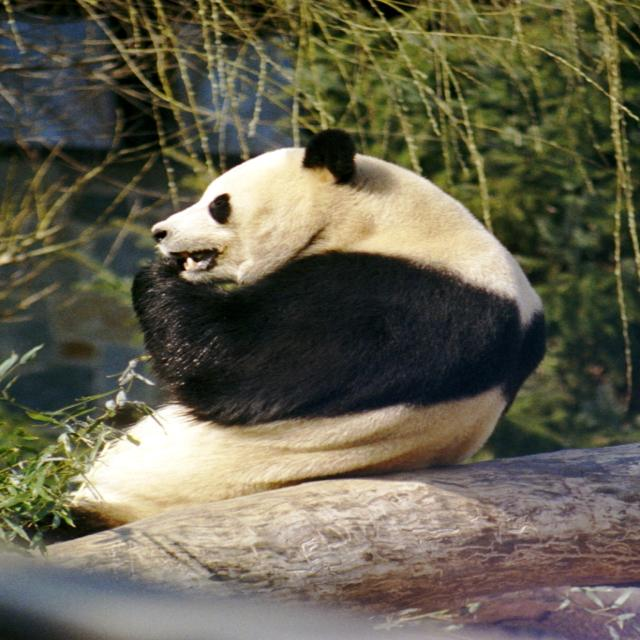panda: (18, 123, 548, 545)
